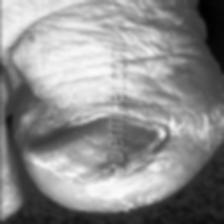Toxin: (23, 116, 168, 188), (192, 88, 224, 146)
